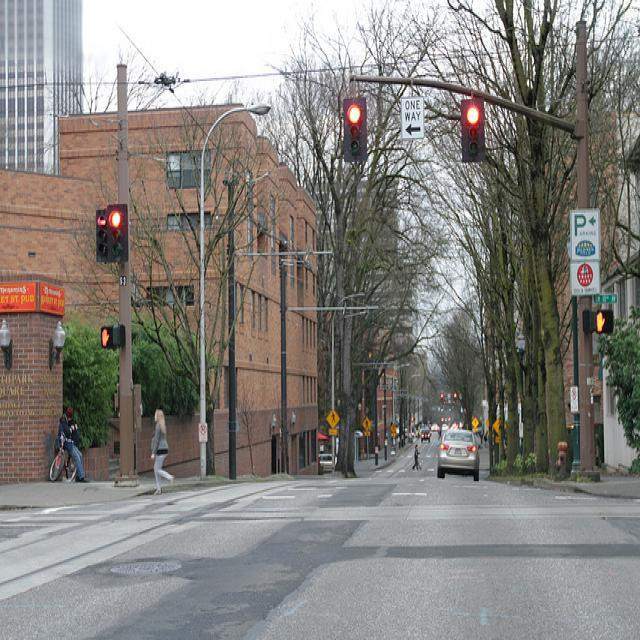fire_hydrant: (554, 440, 567, 480)
